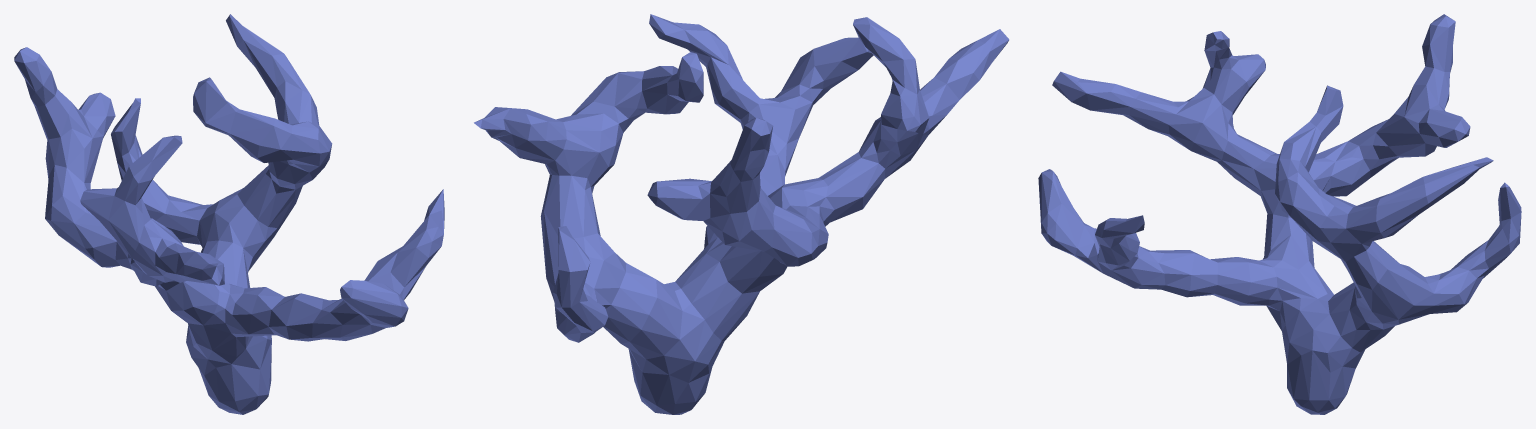
File: coral_1.glb
The picture shows the model from 3 angles, left to right: view 1: azimuth 30°, elevation 25°; view 2: azimuth 150°, elevation 25°; view 3: azimuth 270°, elevation 25°; orthographic projection. The views are drawn at different scales.
Visible parts, largest first — view 1: Coral.001; view 2: Coral.001; view 3: Coral.001.
Part boxes in pixels (x1,y1,x2,y2): Coral.001: (14, 14, 444, 414); Coral.001: (474, 14, 1009, 414); Coral.001: (1038, 14, 1521, 414).
Size of the model in its own units: 46.08 by 50.66 by 67.41.
